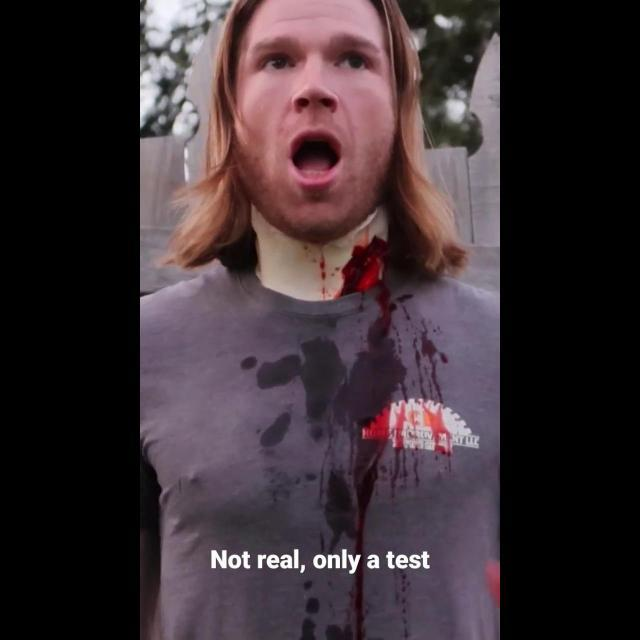blood: (301, 282, 407, 558), (394, 398, 472, 458), (338, 236, 388, 297), (388, 448, 445, 499), (304, 243, 352, 301), (346, 566, 364, 640), (420, 330, 440, 395)
